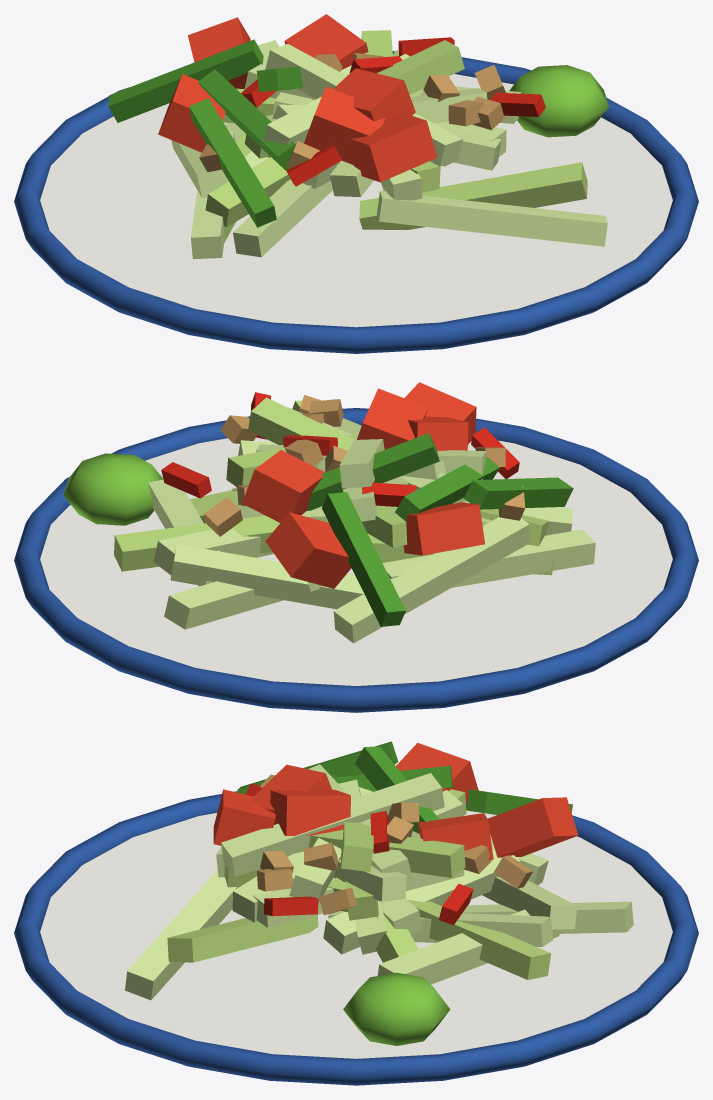
Rendered from dish_tam_thai.glb.
The picture shows the model from 3 angles, top to bottom: view 1: azimuth 30°, elevation 25°; view 2: azimuth 150°, elevation 25°; view 3: azimuth 270°, elevation 25°; orthographic projection.
Visible parts, largest first — view 1: dish_tam_thai; view 2: dish_tam_thai; view 3: dish_tam_thai.
Boxes of the visible parts, left/top/right/bottom form: dish_tam_thai: left=14, top=14, right=698, bottom=353; dish_tam_thai: left=14, top=382, right=698, bottom=712; dish_tam_thai: left=14, top=741, right=698, bottom=1085.
Bounding box in the file's own units: 0.51 × 0.1563 × 0.51.
